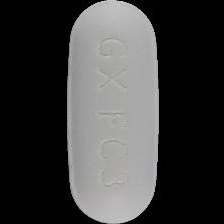21695-846: (0, 0, 224, 224)
